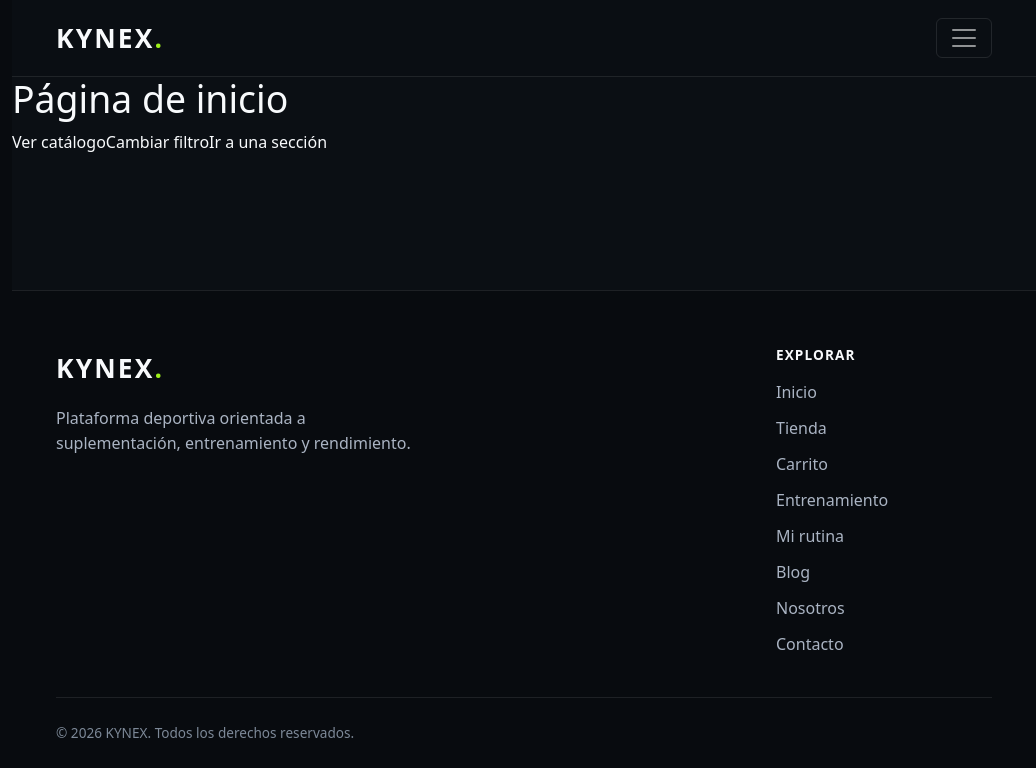
PublicLayout › cambia el contenido del Outlet conservando la cabecera y el pie compartidos
The image size is (1036, 768).
Click the link "Ver catálogo": [59, 142] box [12, 131, 106, 153]
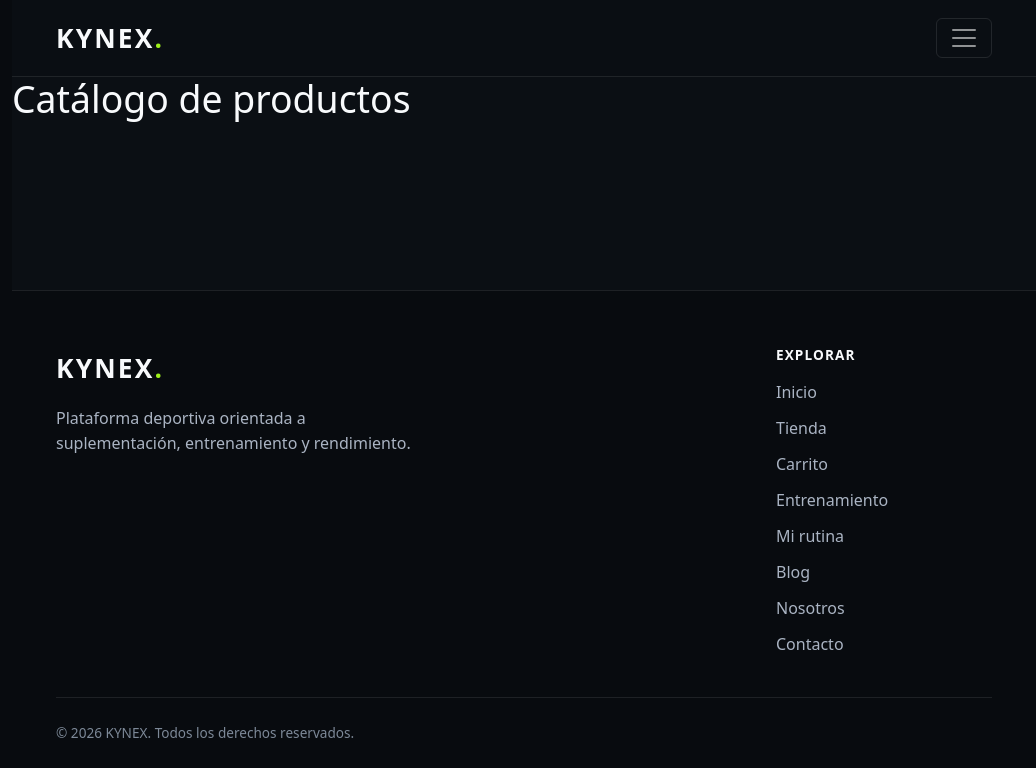
Check: the heading "Catálogo de productos" is shown, box [12, 73, 411, 124]
Check: the heading "Página de inicio" is gone
